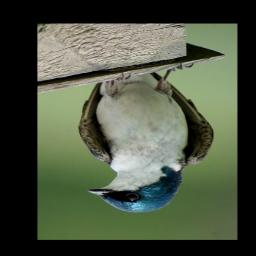Swallow: (77, 61, 214, 214)
